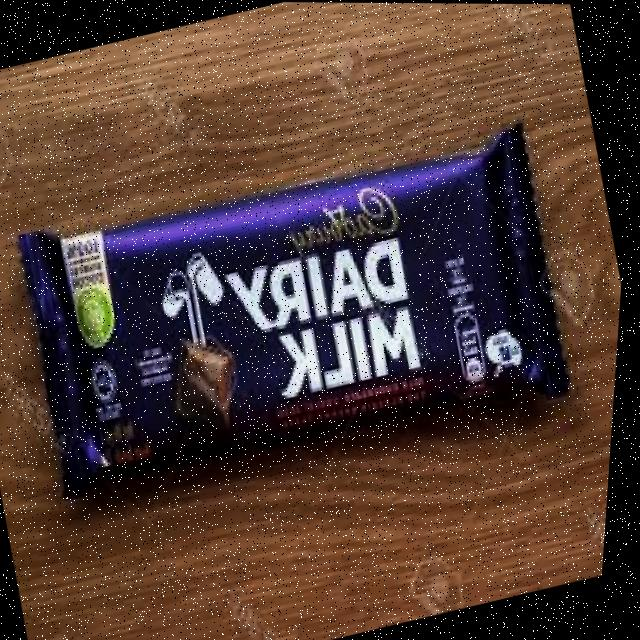cadbury: (4, 113, 591, 507)
